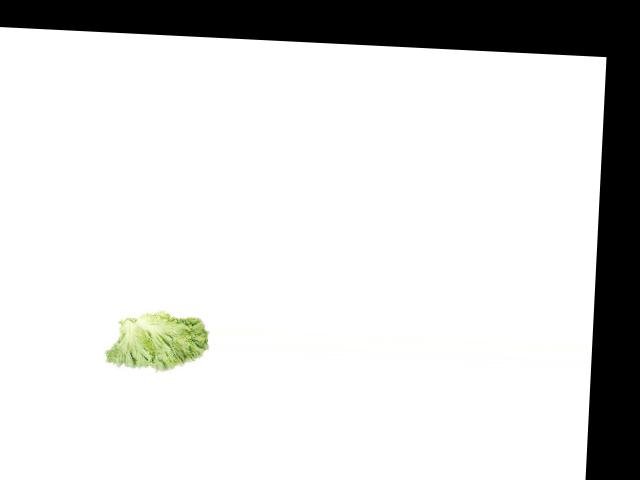lettuce: (104, 304, 211, 381)
